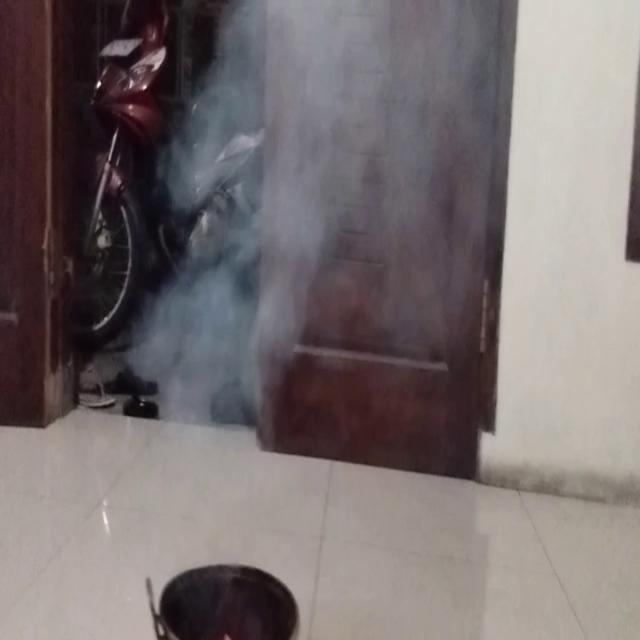fire: (183, 0, 496, 462)
